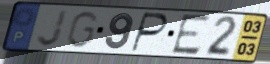2: (204, 14, 238, 58)
9: (103, 11, 135, 52)
E: (169, 13, 213, 56)
G: (64, 10, 100, 50)
J: (35, 8, 70, 48)
P: (129, 11, 170, 54)
